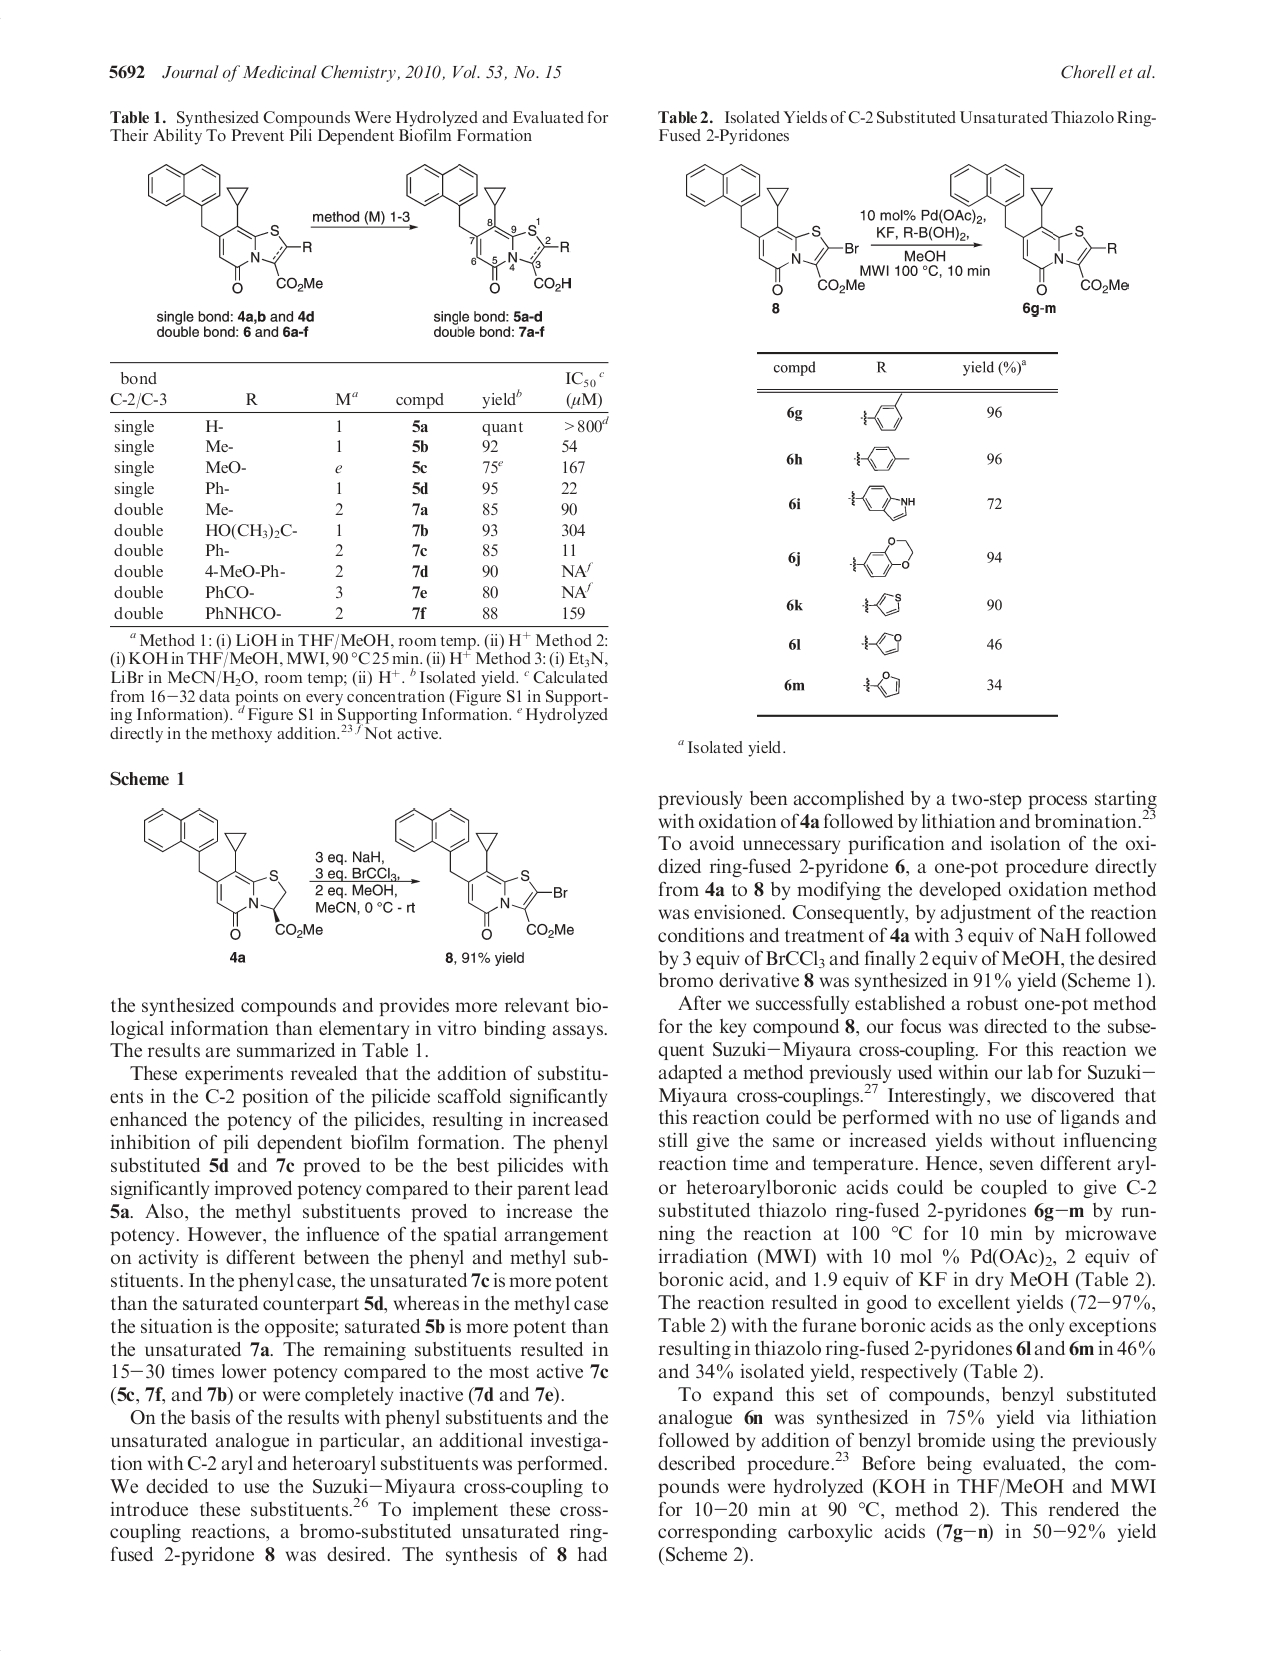exist_molecular: (682, 161, 871, 295), (948, 161, 1134, 297), (394, 809, 577, 946), (141, 807, 327, 942), (144, 162, 326, 297), (404, 162, 573, 294), (850, 537, 915, 578), (848, 484, 918, 523), (860, 394, 906, 434), (852, 446, 911, 473), (860, 590, 906, 616), (862, 672, 902, 700), (860, 632, 902, 657)
